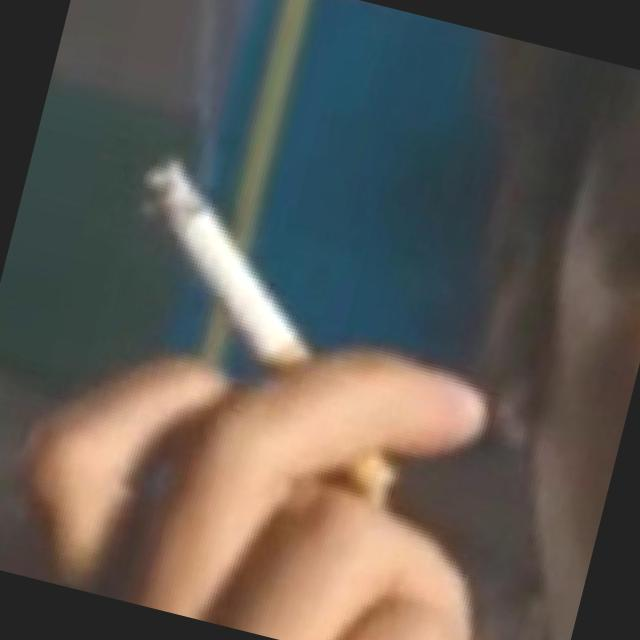cigarette: (94, 138, 358, 381)
